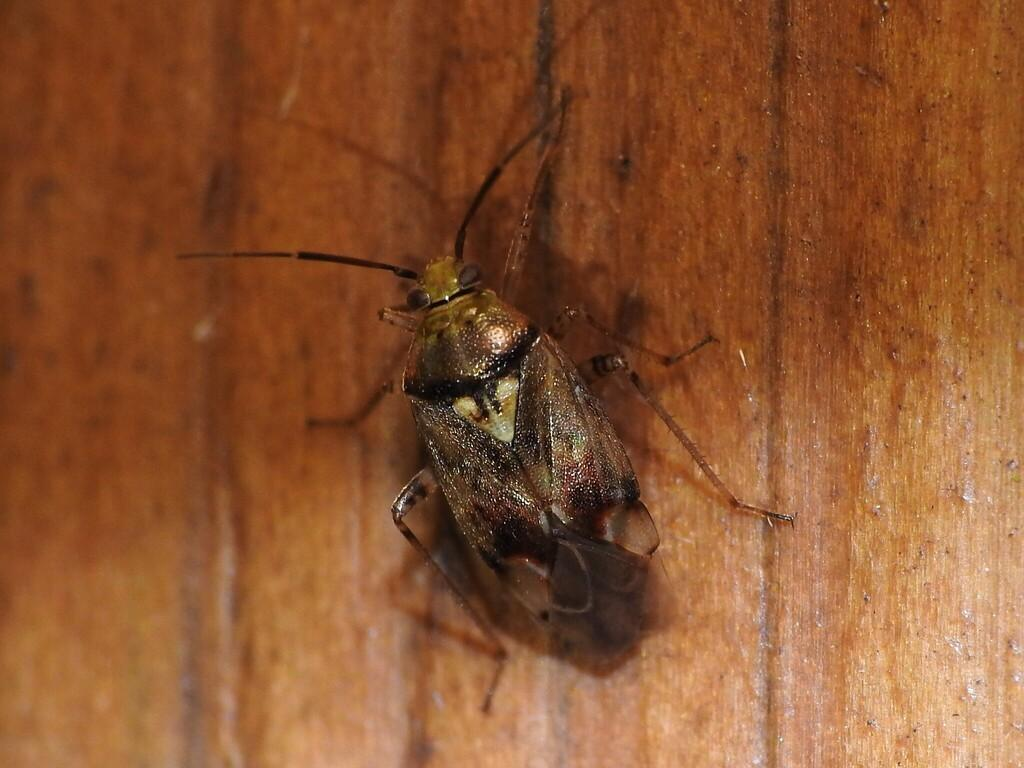plant_bugs: (128, 63, 849, 756)
